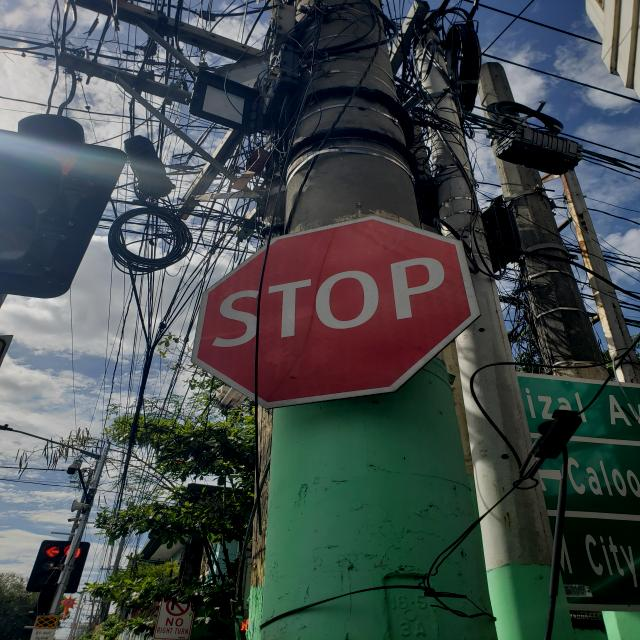stop-sign: (190, 214, 483, 410)
